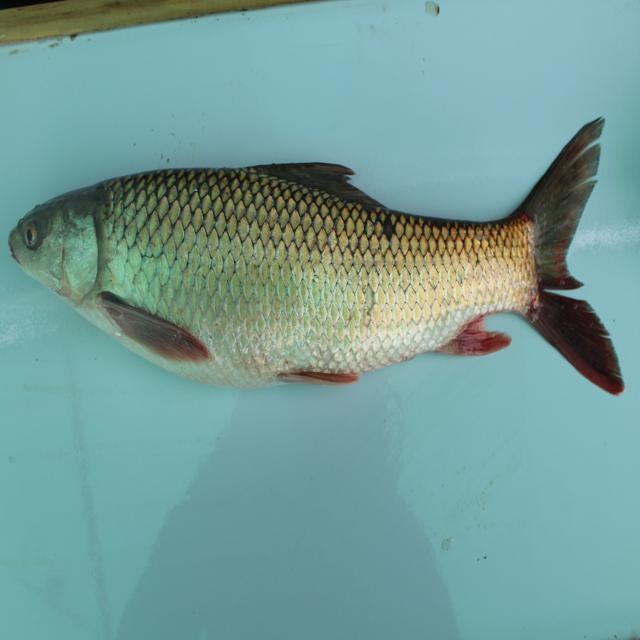Mori: (9, 129, 640, 415)
